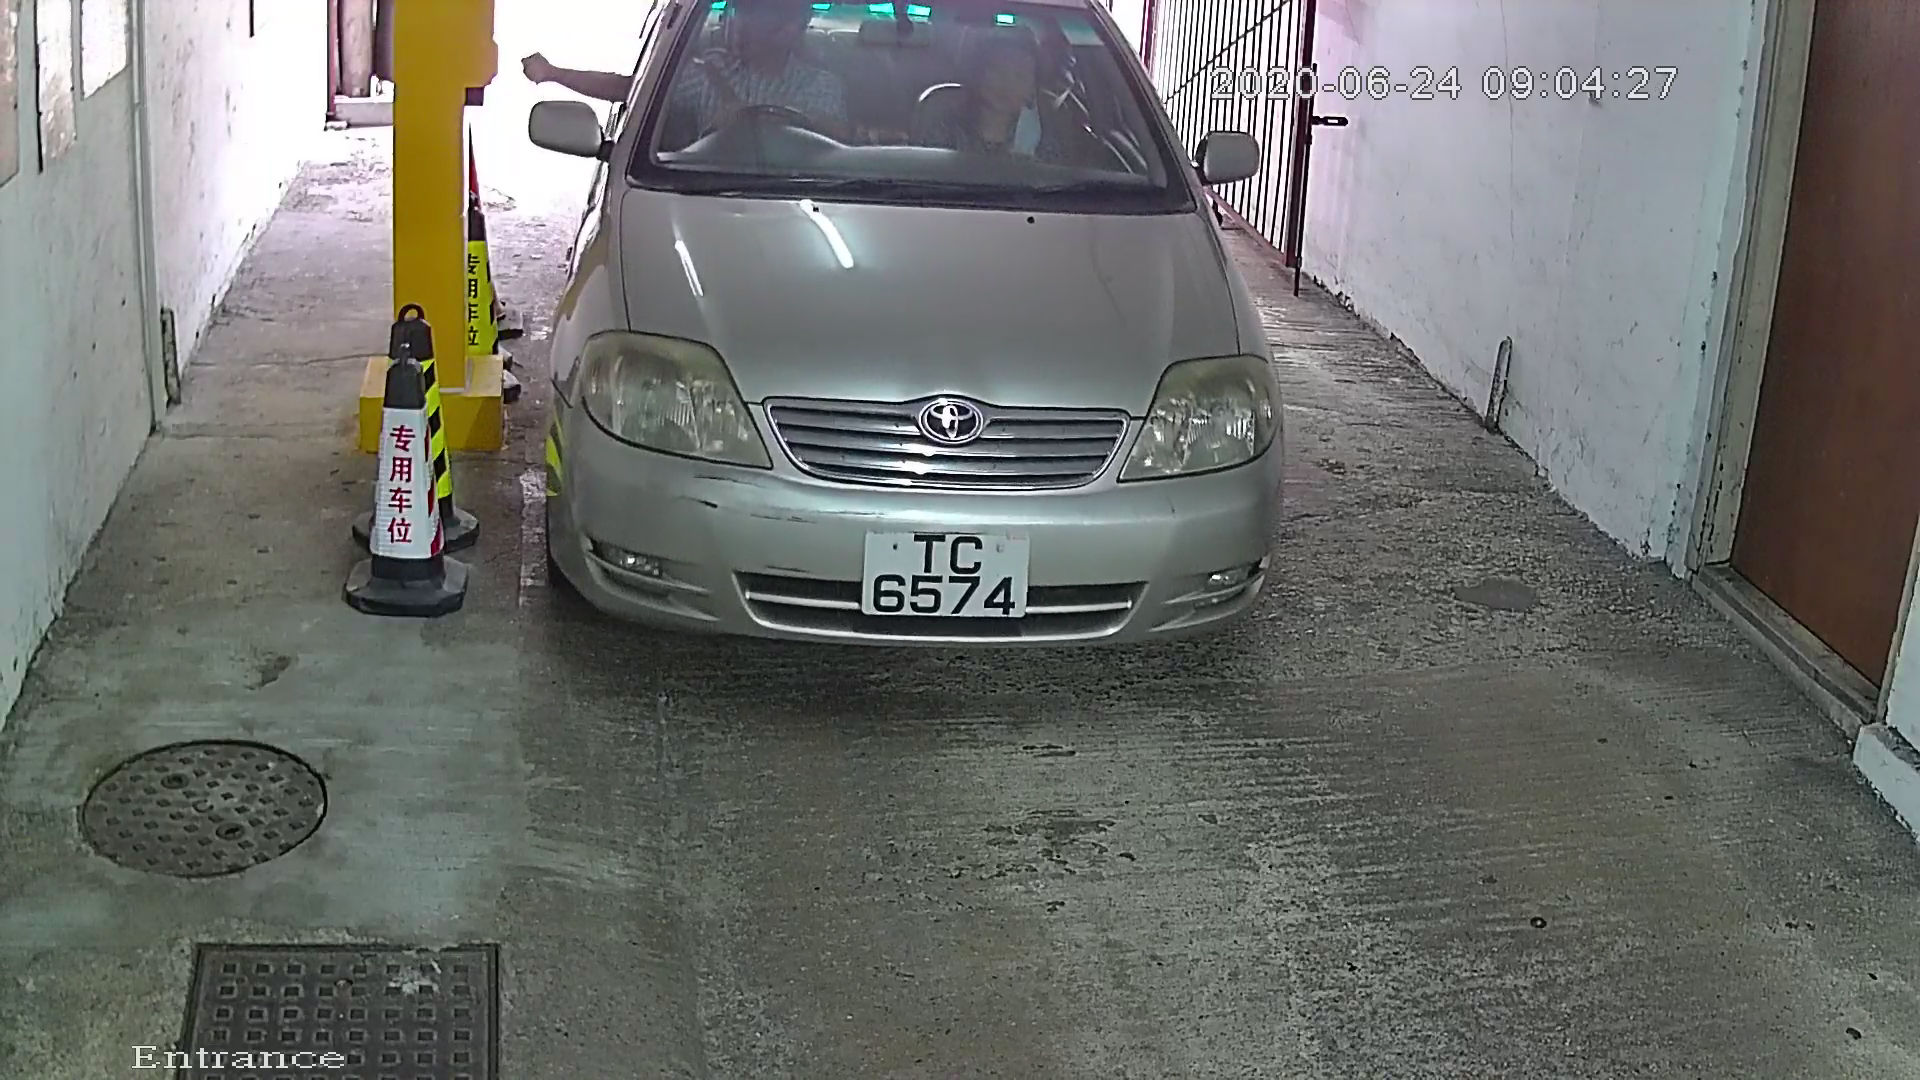privatecar: (475, 1, 1358, 713)
